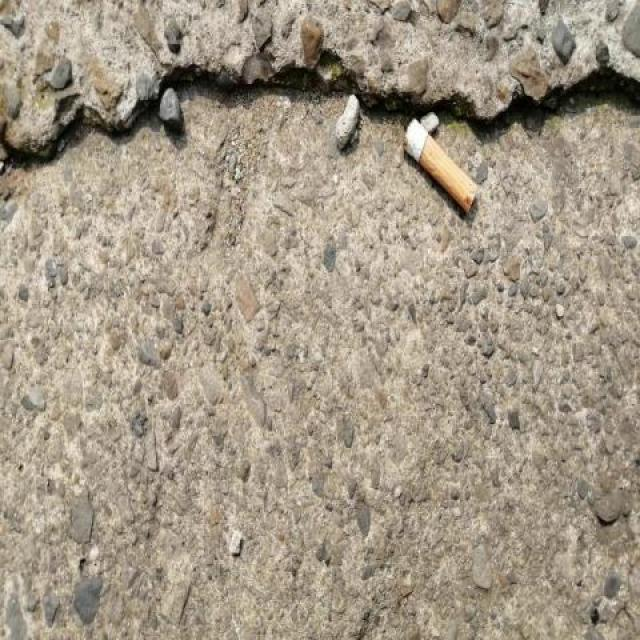non-organic waste: (395, 115, 480, 218)
